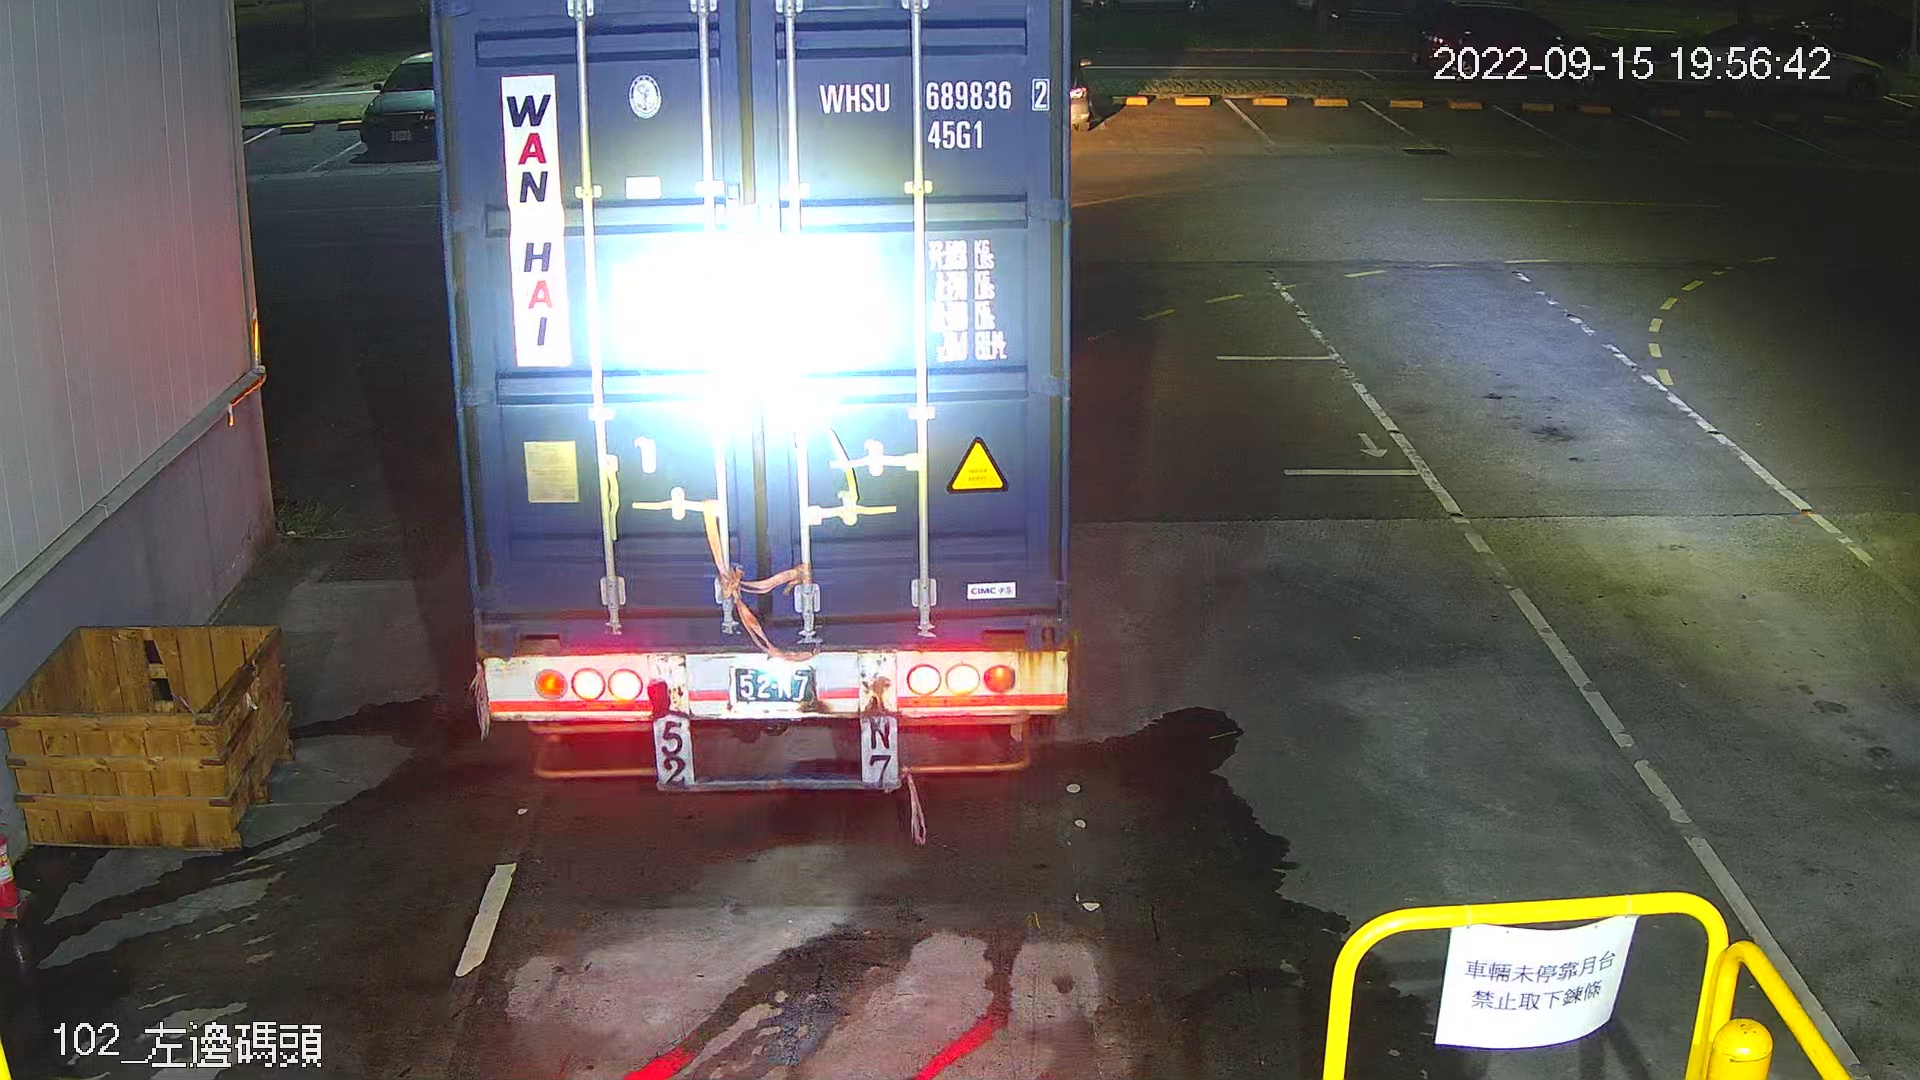container: (806, 67, 1056, 157)
